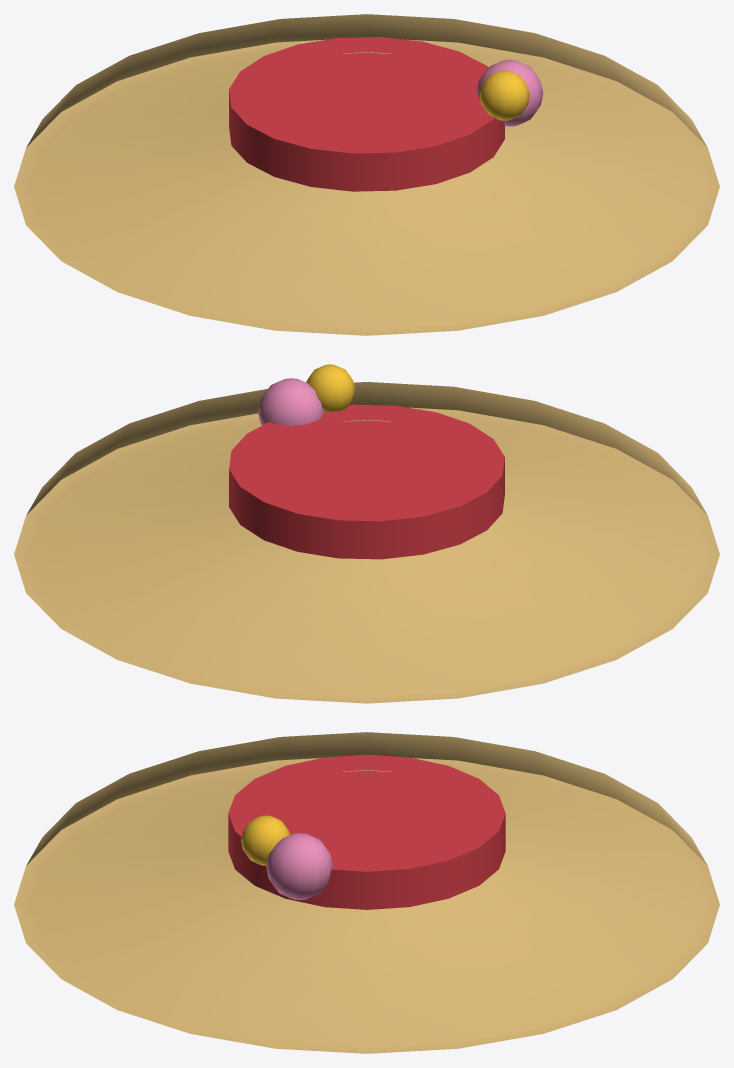
The model's file is garden_hat.glb.
3 views of the same model, one above another, from view 1: azimuth 30°, elevation 25°; view 2: azimuth 150°, elevation 25°; view 3: azimuth 270°, elevation 25° (orthographic).
Parts seen in each view (by area): view 1: root; view 2: root; view 3: root.
Part boxes in pixels (bbox=[...]): root: bbox=[14, 14, 719, 335]; root: bbox=[14, 364, 719, 703]; root: bbox=[14, 732, 719, 1053].
Size of the model in its own units: 0.84 by 0.17 by 0.84.
